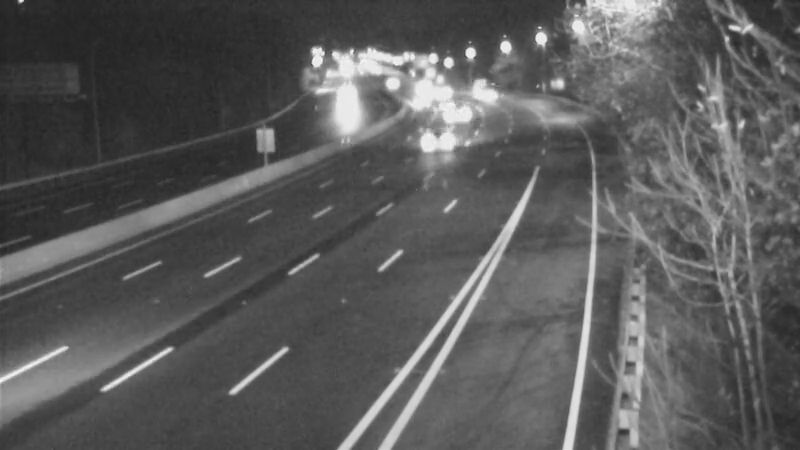vehicle: (364, 59, 414, 109), (420, 71, 470, 121), (447, 61, 497, 111), (391, 74, 441, 124), (431, 91, 481, 141), (411, 118, 461, 168), (316, 76, 366, 126)
